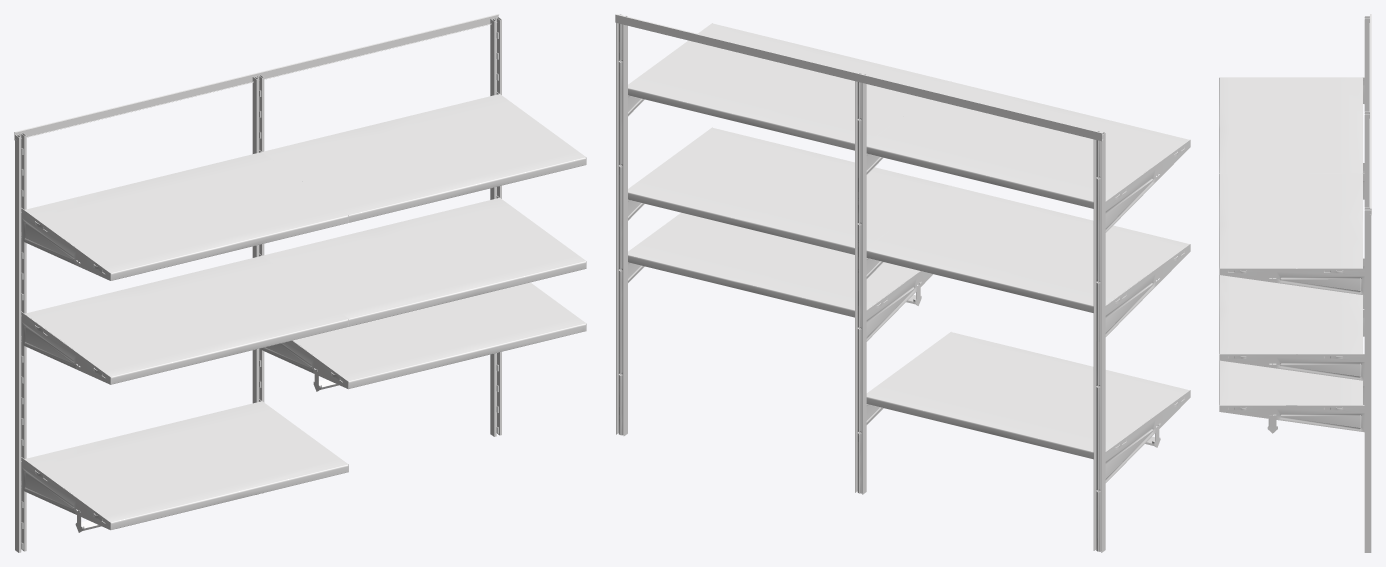
File: boaxel_kombinacja_szafy_89384014.glb
The picture shows the model from 3 angles, left to right: view 1: azimuth 30°, elevation 25°; view 2: azimuth 150°, elevation 25°; view 3: azimuth 270°, elevation 25°; orthographic projection. The views are drawn at different scales.
Visible parts, largest first — view 1: boaxel_kombinacja_szafy_89384014; view 2: boaxel_kombinacja_szafy_89384014; view 3: boaxel_kombinacja_szafy_89384014.
Boxes of the visible parts, <box> form: boaxel_kombinacja_szafy_89384014: <box>14,14,586,552</box>; boaxel_kombinacja_szafy_89384014: <box>615,14,1190,552</box>; boaxel_kombinacja_szafy_89384014: <box>1219,14,1371,552</box>.
Size of the model in its own units: 1.22 by 1.01 by 0.4027.
1 material, 1 textured.
